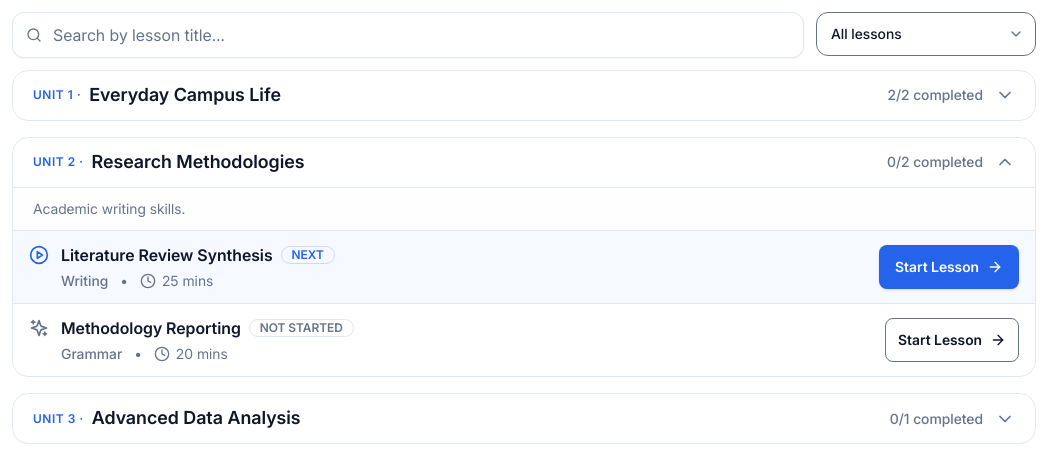
Scenario: LearnPage (P10.2) › shows no-results text when search has no matches
Type "nonexistentquery123" into the search field named "search lessons" at [408, 35], box [12, 12, 804, 58]
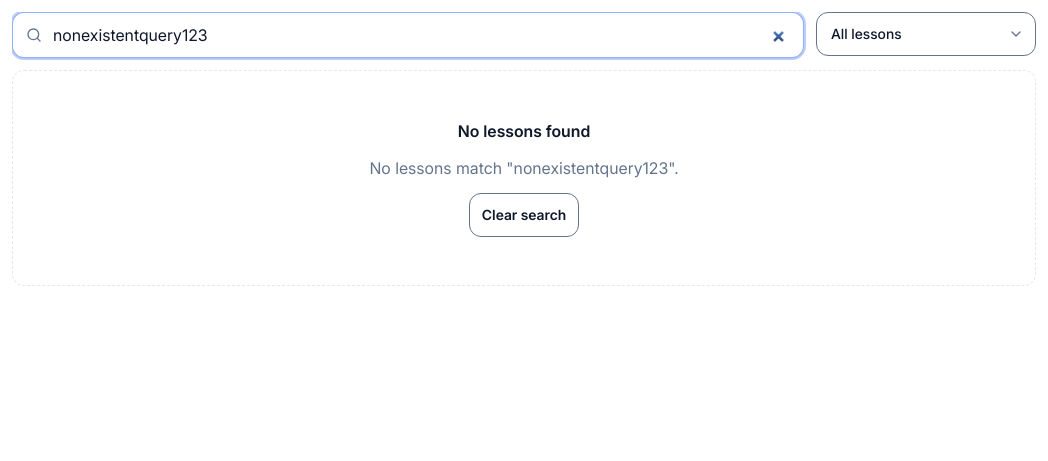
Expected: the message shows "No lessons found", [458, 121, 590, 141]
Expected: the text "No lessons match \"nonexistentquery123\"." is shown, [370, 158, 679, 178]
